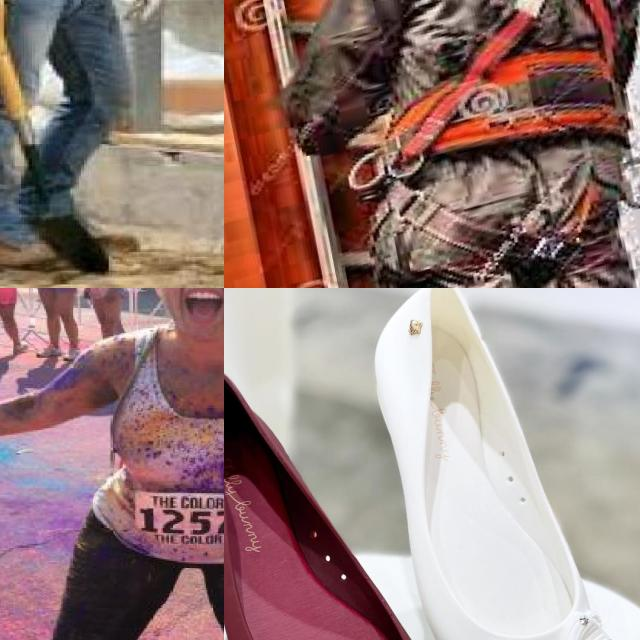Harness: (389, 0, 548, 166)
Sandals: (357, 288, 640, 640), (224, 357, 477, 640)
boots: (0, 221, 57, 270)
face_nomask: (159, 288, 224, 331)
person: (29, 288, 224, 640), (0, 0, 200, 288), (21, 288, 85, 363), (86, 288, 134, 343), (0, 288, 29, 363)
